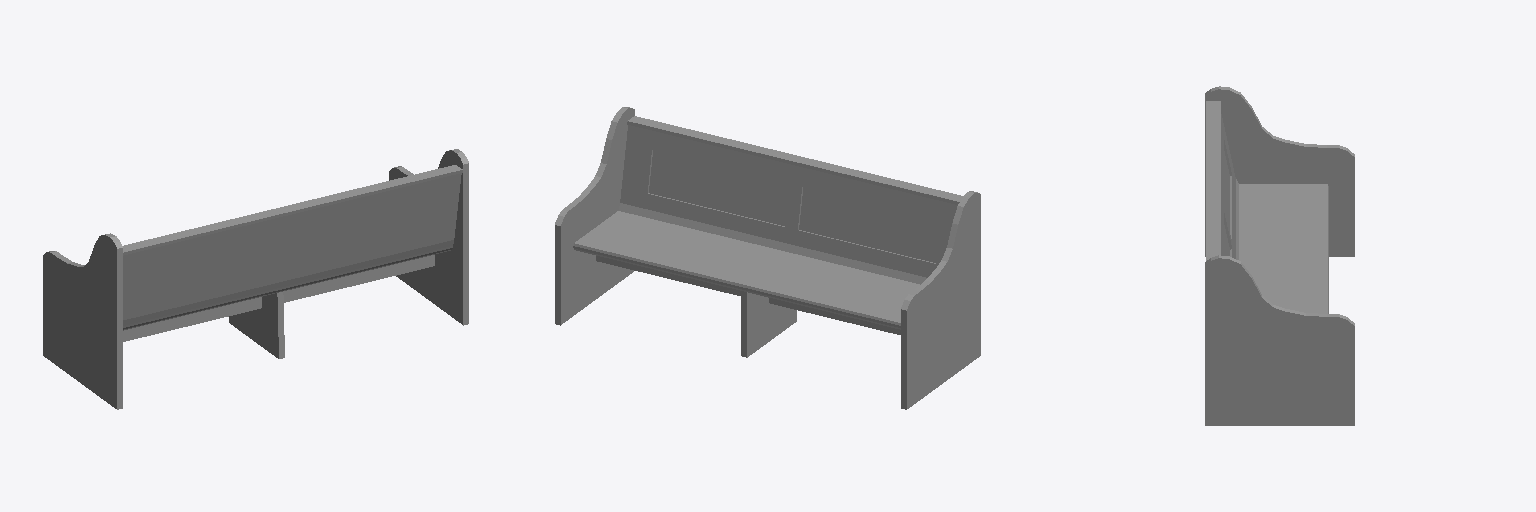
The model's file is ChurchBench.obj.
The picture shows the model from 3 angles: view 1: azimuth 30°, elevation 25°; view 2: azimuth 150°, elevation 25°; view 3: azimuth 270°, elevation 25°; orthographic projection.
Visible parts, largest first — view 1: ChurchBench; view 2: ChurchBench; view 3: ChurchBench.
Boxes of the visible parts, x1=… form: ChurchBench: x1=43, y1=149, x2=468, y2=409; ChurchBench: x1=555, y1=107, x2=980, y2=409; ChurchBench: x1=1205, y1=86, x2=1354, y2=425.
Size of the model in its own units: 2.12 by 0.9649 by 0.7804.